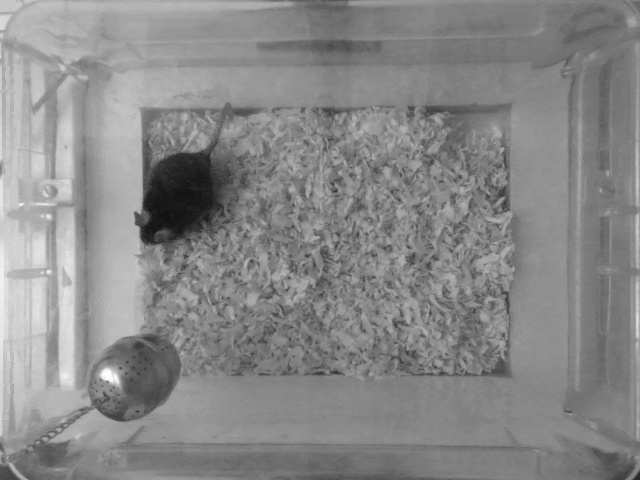mice: (135, 102, 232, 250)
